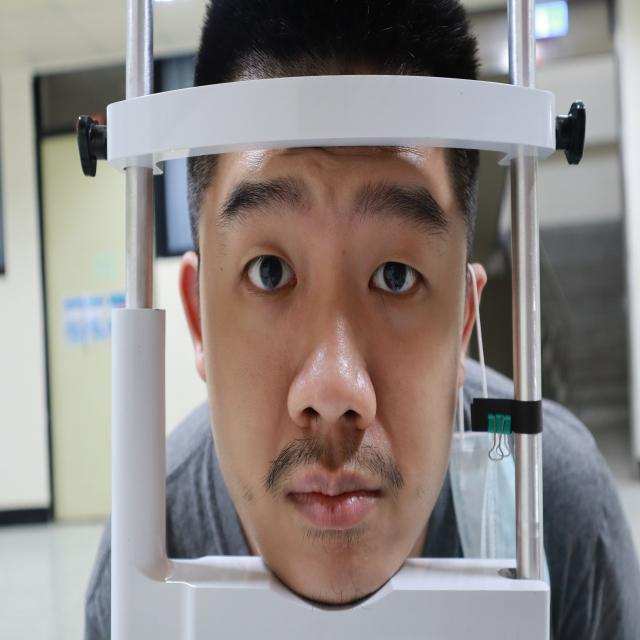eye: (365, 248, 428, 304), (238, 249, 299, 299)
gaze: (383, 260, 408, 292), (259, 256, 283, 288)
